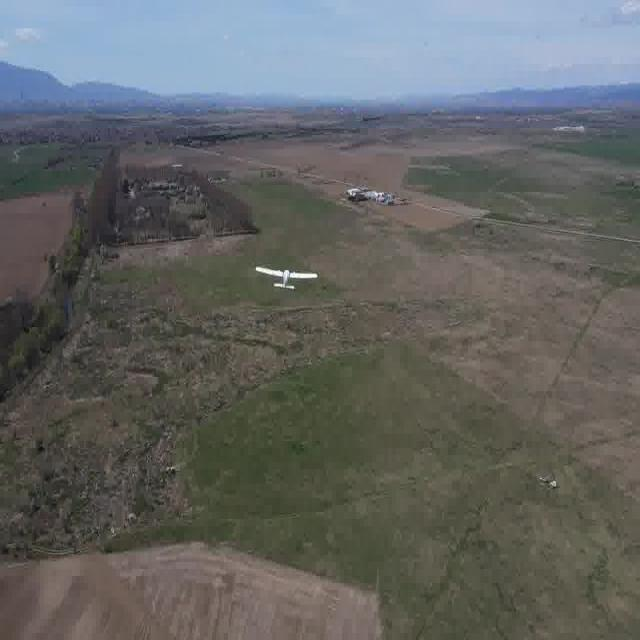iha: (286, 256, 290, 300)
